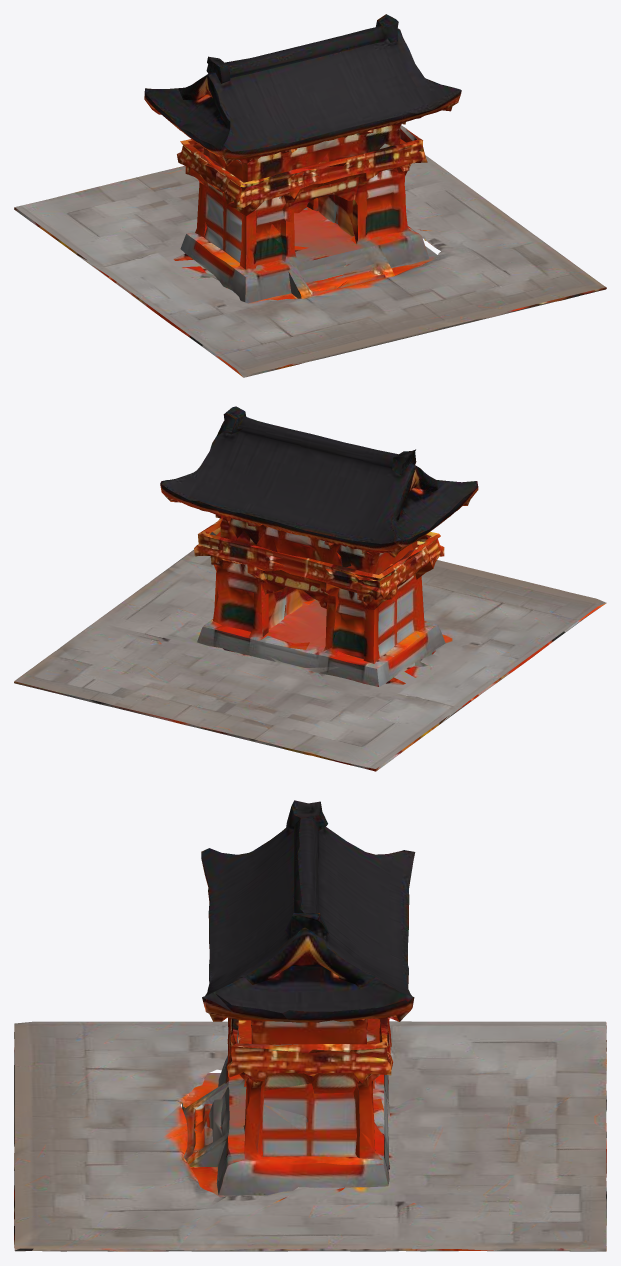
File: yasaka-shrine.glb
The picture shows the model from 3 angles, top to bottom: view 1: azimuth 30°, elevation 25°; view 2: azimuth 150°, elevation 25°; view 3: azimuth 270°, elevation 25°; orthographic projection. The views are drawn at different scales.
Visible parts, largest first — view 1: logan-textured.obj; view 2: logan-textured.obj; view 3: logan-textured.obj.
Part boxes in pixels (bbox=[...]): logan-textured.obj: bbox=[14, 14, 606, 377]; logan-textured.obj: bbox=[14, 406, 606, 771]; logan-textured.obj: bbox=[14, 800, 606, 1251].
Size of the model in its own units: 0.9105 by 0.5425 by 1.
Materials: 1 (1 with a texture image).
